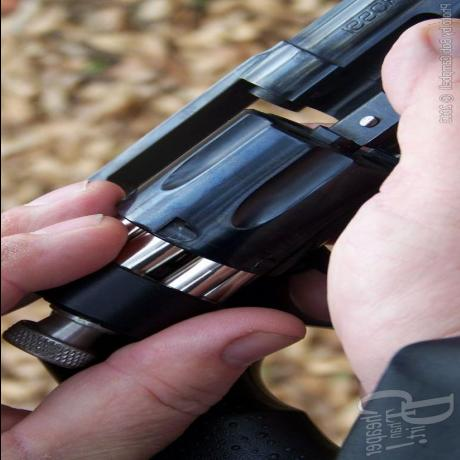1: (0, 181, 301, 460)
weapon: (4, 0, 460, 373)
